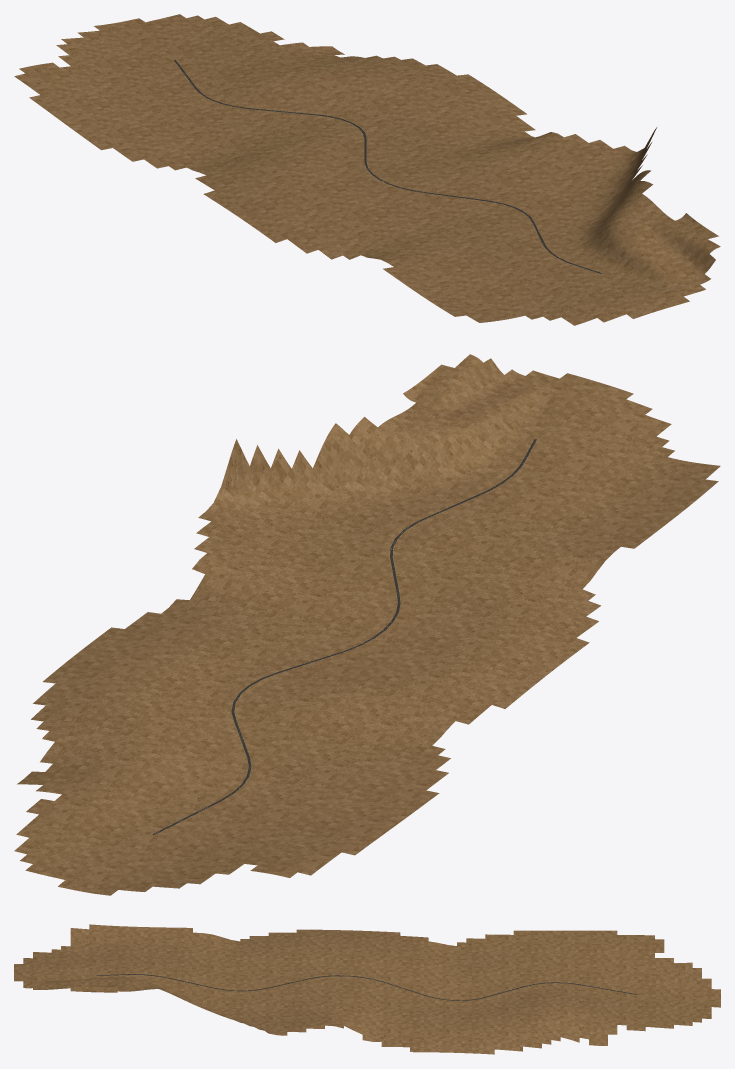
3 views of the same model, one above another, from view 1: azimuth 30°, elevation 25°; view 2: azimuth 150°, elevation 25°; view 3: azimuth 270°, elevation 25° (orthographic). The views are drawn at different scales.
Parts seen in each view (by area): view 1: S02_TERRAIN_LOD2_WEB_EXPORT, S02_ROAD_ASPHALT_LOD2_WEB_EXPORT; view 2: S02_TERRAIN_LOD2_WEB_EXPORT, S02_ROAD_ASPHALT_LOD2_WEB_EXPORT; view 3: S02_TERRAIN_LOD2_WEB_EXPORT, S02_ROAD_ASPHALT_LOD2_WEB_EXPORT.
Boxes of the visible parts, <box> form: S02_TERRAIN_LOD2_WEB_EXPORT: <box>14,14,720,325</box>; S02_ROAD_ASPHALT_LOD2_WEB_EXPORT: <box>174,60,602,273</box>; S02_TERRAIN_LOD2_WEB_EXPORT: <box>14,354,720,895</box>; S02_ROAD_ASPHALT_LOD2_WEB_EXPORT: <box>152,439,536,834</box>; S02_TERRAIN_LOD2_WEB_EXPORT: <box>14,924,720,1054</box>; S02_ROAD_ASPHALT_LOD2_WEB_EXPORT: <box>96,974,636,1000</box>.
Size of the model in its own units: 1280 by 313 by 3000.
Materials: 6 (6 with a texture image).
